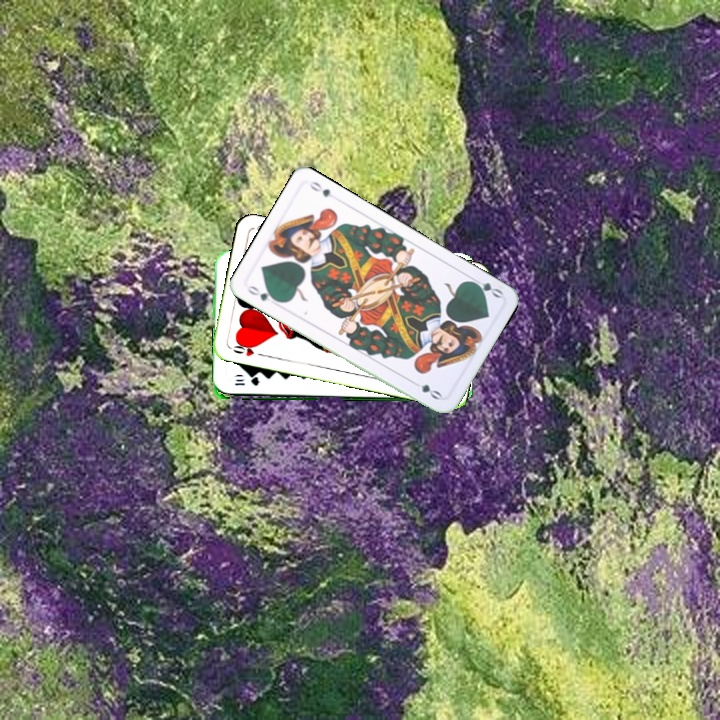G10: (231, 375, 262, 388)
GO: (466, 273, 505, 301), (243, 281, 282, 304)
HO: (229, 338, 266, 359)
